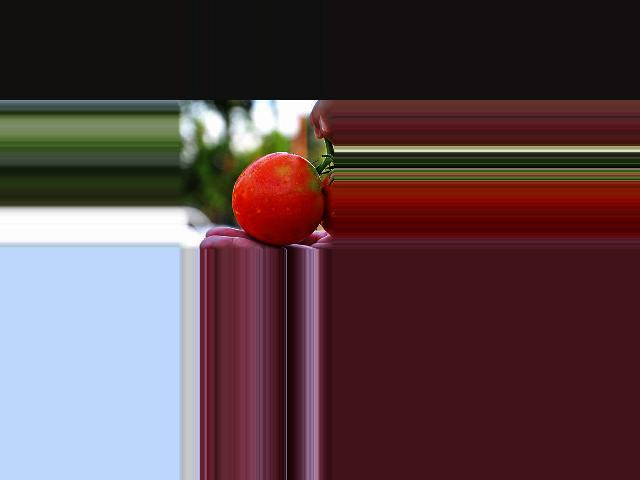tomato: (232, 152, 323, 245)
